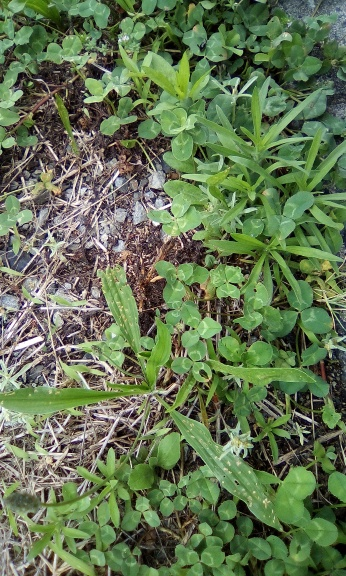4leaf: (146, 194, 203, 237)
